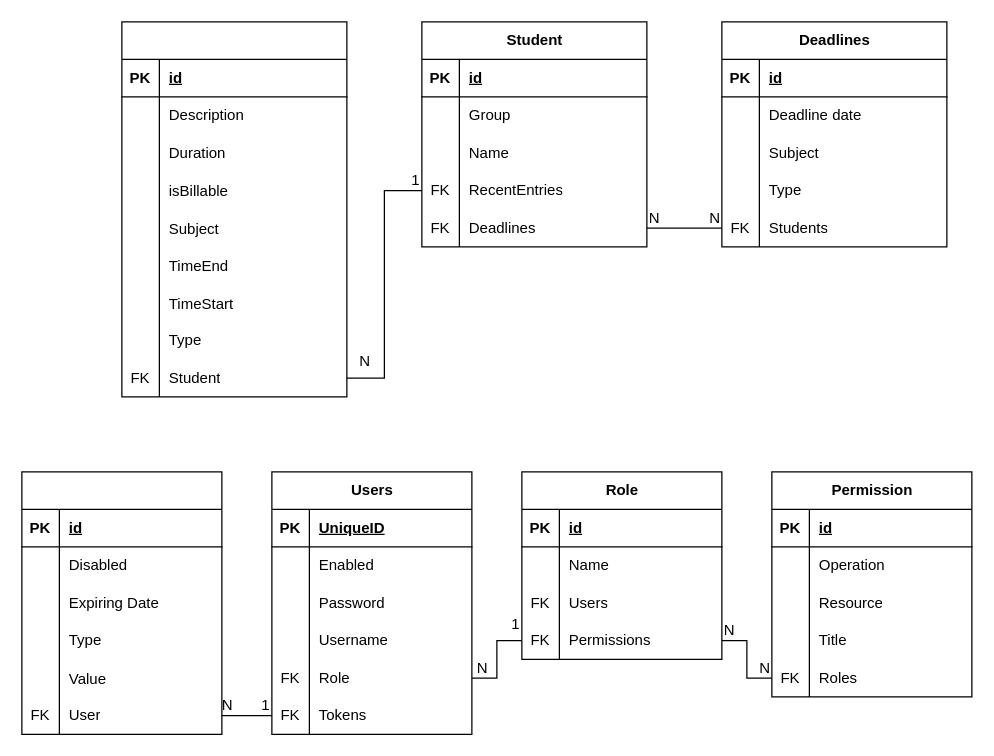
This 994x756 diagram has some shape labels left out. The shapes that lost their labels are listed below. From the top down, each one's box as (x1, y1, x2, y2) in pixels, then its label:
(121, 21, 347, 397): TimeEntry
(21, 471, 222, 734): Token
